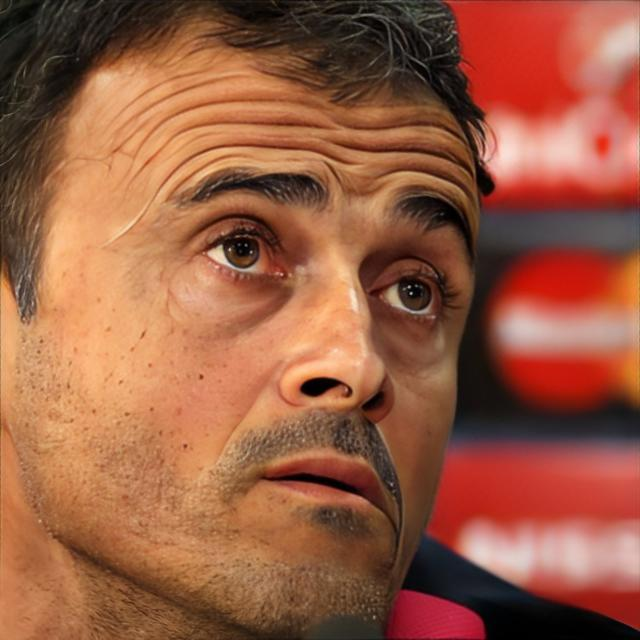surprise: (2, 0, 484, 640)
